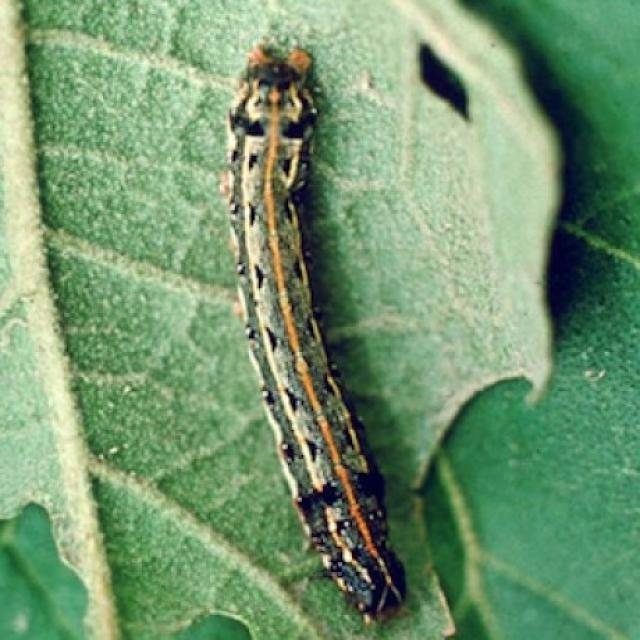armyworm: (217, 39, 409, 625)
